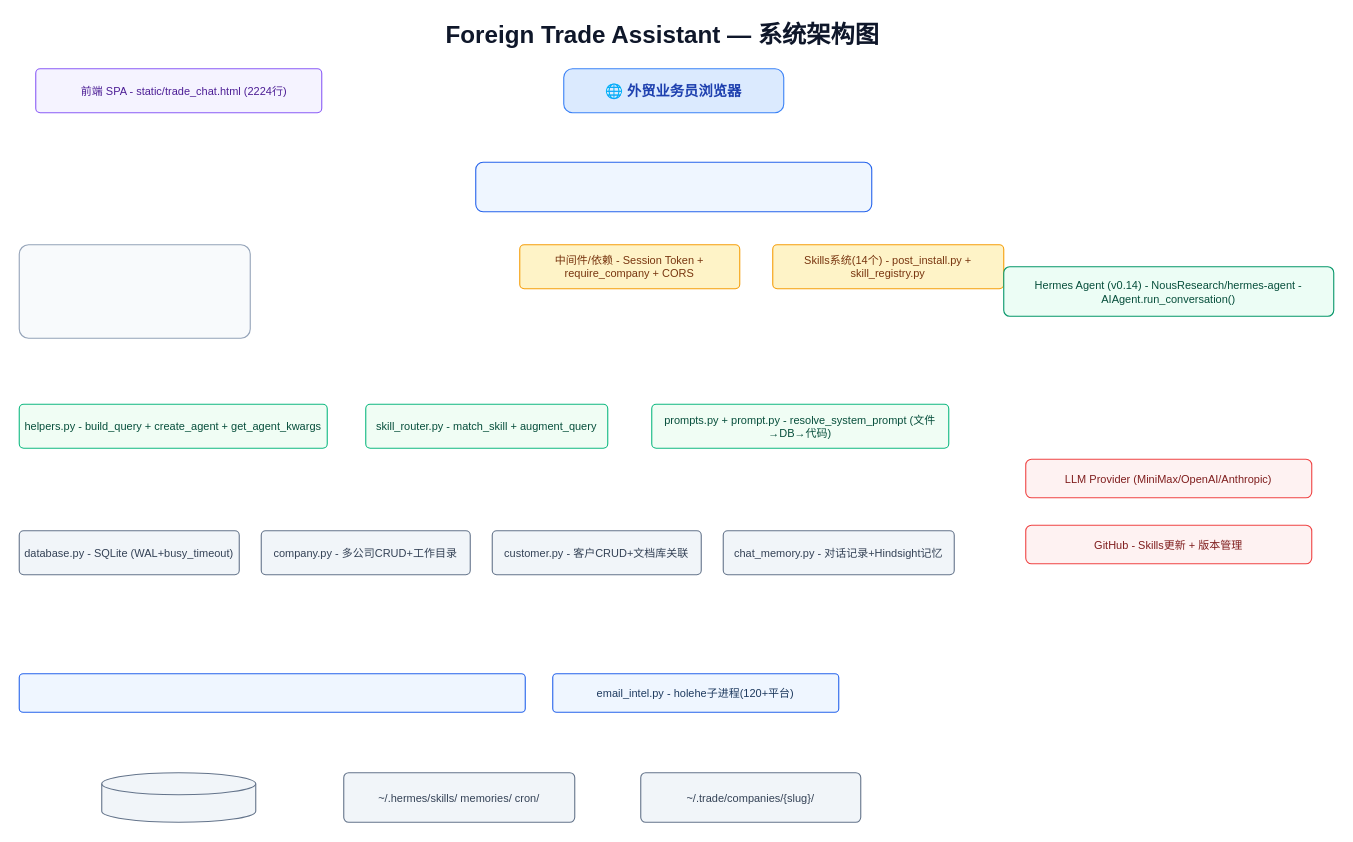
Image size: 1353x842. Some labels were removed from this diagram. Each missing label, with the box of its shape:
API 路由 - /api/trade/*: (18, 244, 250, 338)
FastAPI Server (server.py): (475, 161, 872, 212)
trade/osint/ - 6层背调: orchestrator → whois/email/sanctions/tech/linkedin/scoring: (18, 673, 525, 712)
~/.trade/data/trade.db: (101, 772, 256, 822)
